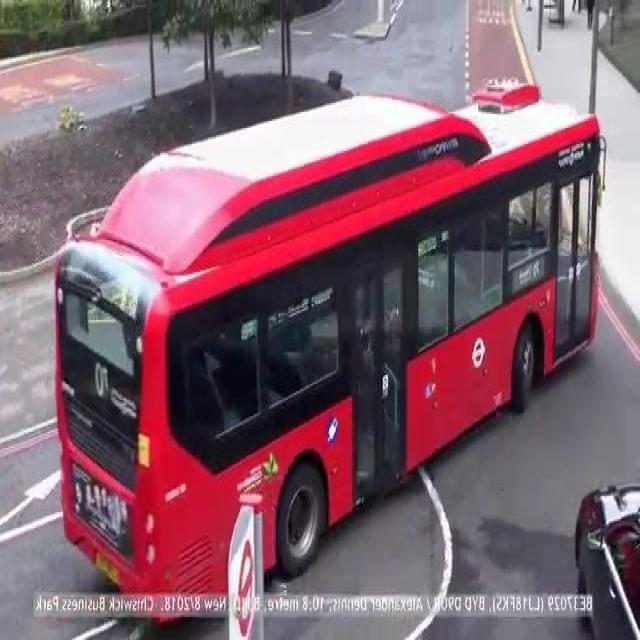bus: (46, 46, 627, 617)
